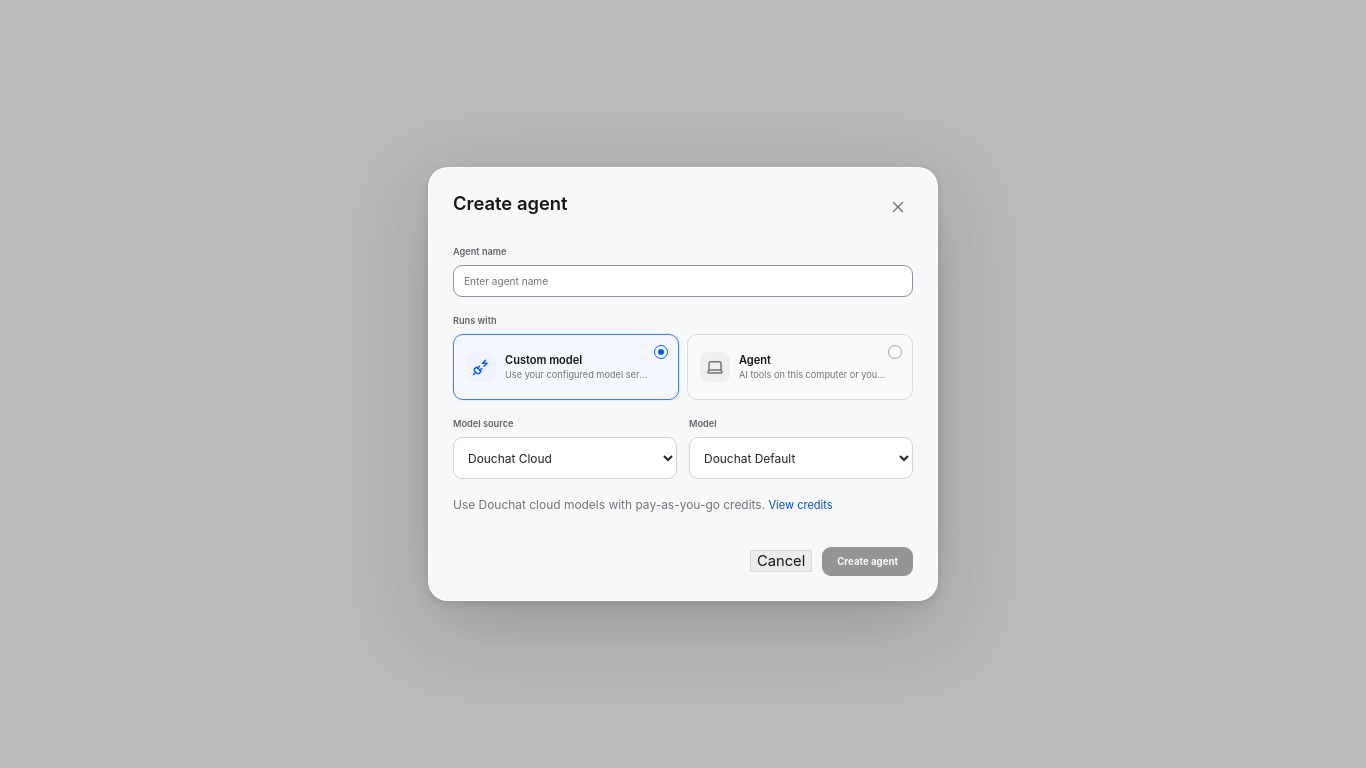
create agent terminology › separates the created agent from its cloud or local agent
This screenshot has width=1366, height=768.
Click the radio button labelled "Agent AI tools on this computer or your servers": click(800, 367) [687,334,913,400]
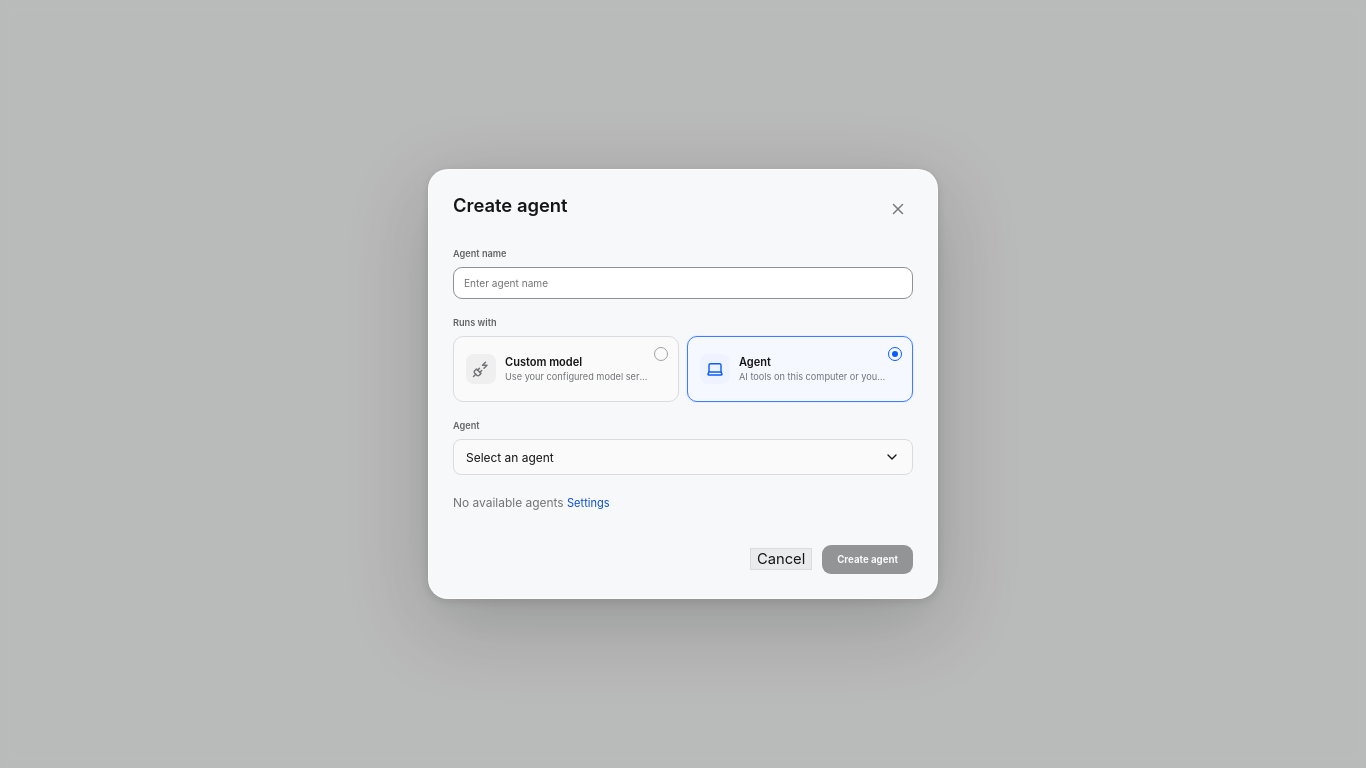
expect the text "AI tools on this computer or your servers" is shown: met, box [739,371,886,383]
expect the text "No available agents" is shown: met, box [453,495,564,510]
